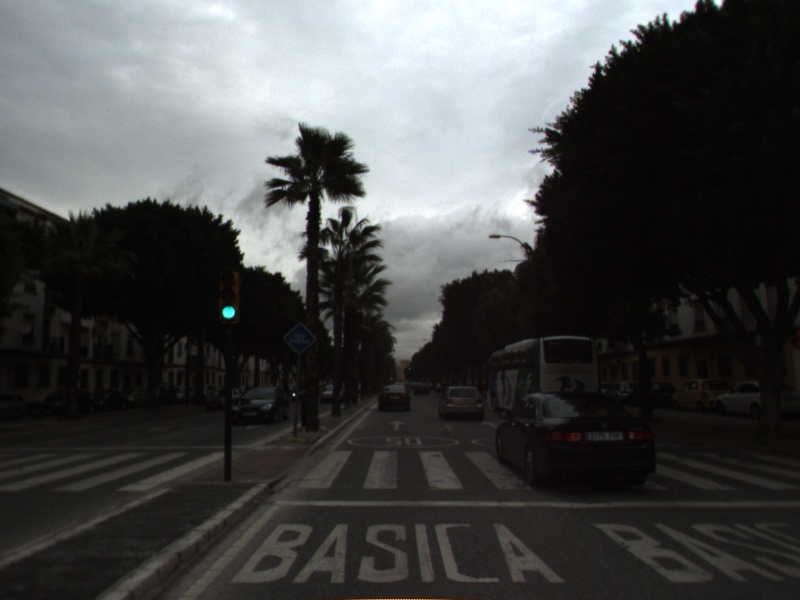STRAIGHT: (386, 418, 409, 432), (479, 418, 499, 430)
